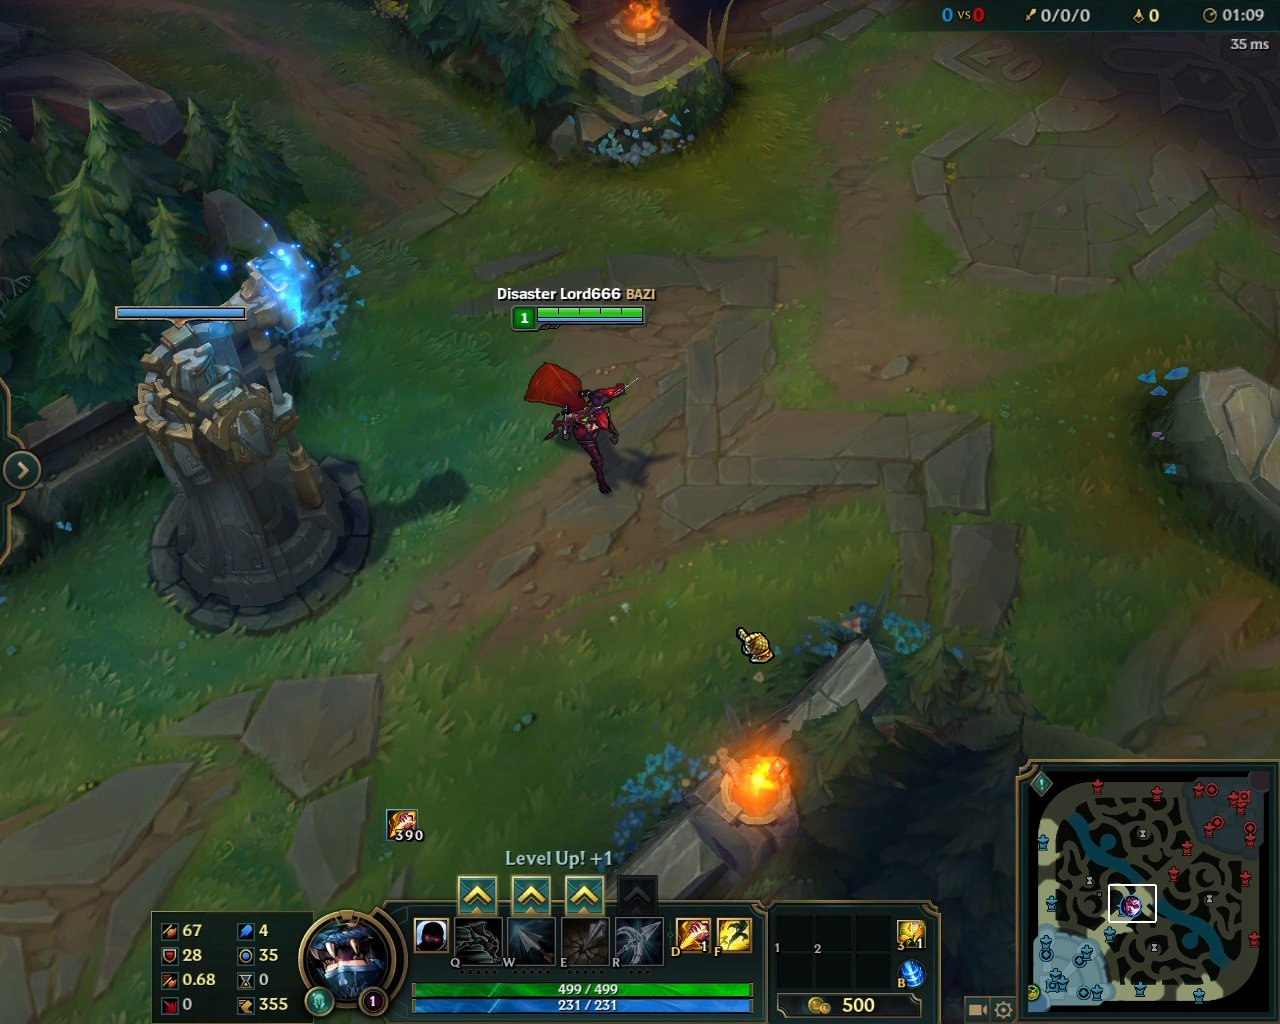Vayne: (514, 357, 636, 499)
